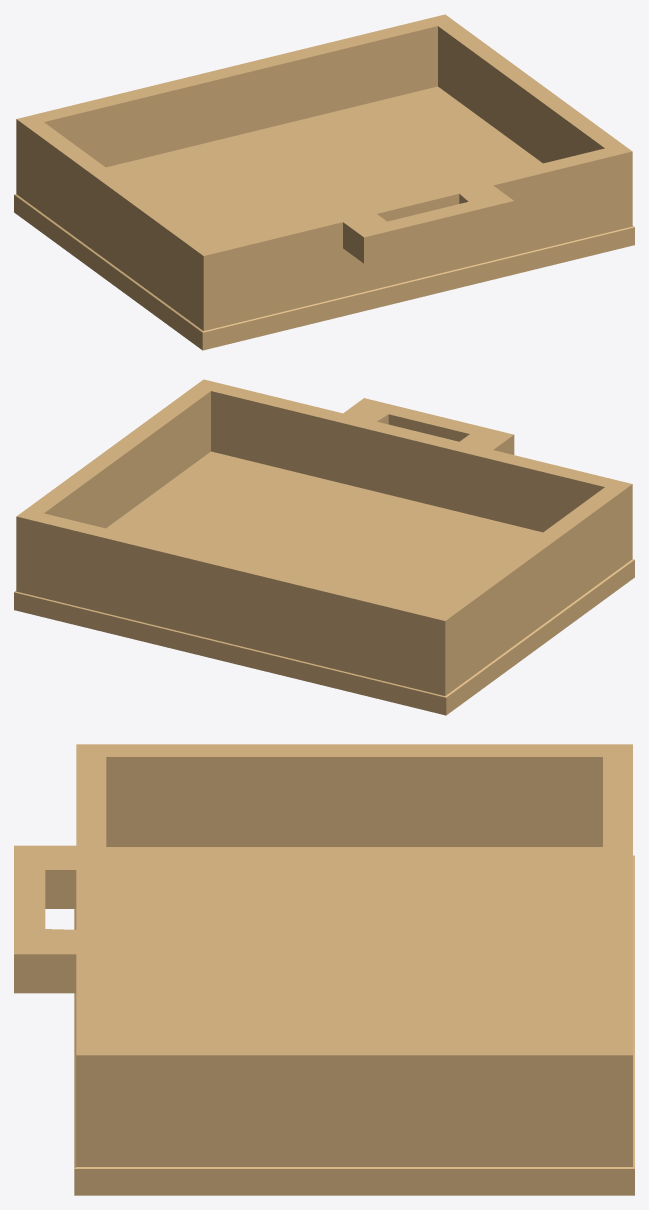
The model's file is S_MalletteB.fbx.
3 renders of one model, top to bottom at view 1: azimuth 30°, elevation 25°; view 2: azimuth 150°, elevation 25°; view 3: azimuth 270°, elevation 25°, orthographic. The views are drawn at different scales.
Visible parts, largest first — view 1: S_MalletteB.001; view 2: S_MalletteB.001; view 3: S_MalletteB.001.
Part boxes in pixels (box(x1,y1,x2,y2)): S_MalletteB.001: box(14, 14, 634, 350); S_MalletteB.001: box(14, 379, 634, 715); S_MalletteB.001: box(14, 744, 634, 1195).
Bounding box in the file's own units: 52.41 × 10.84 × 43.9.
